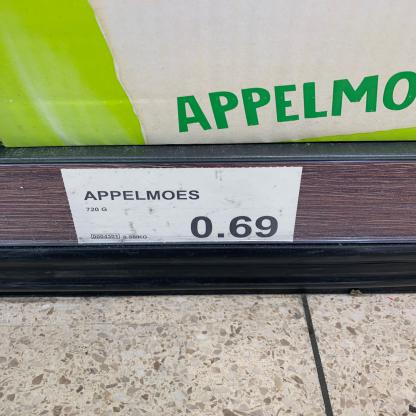prtg: (61, 168, 303, 245)
